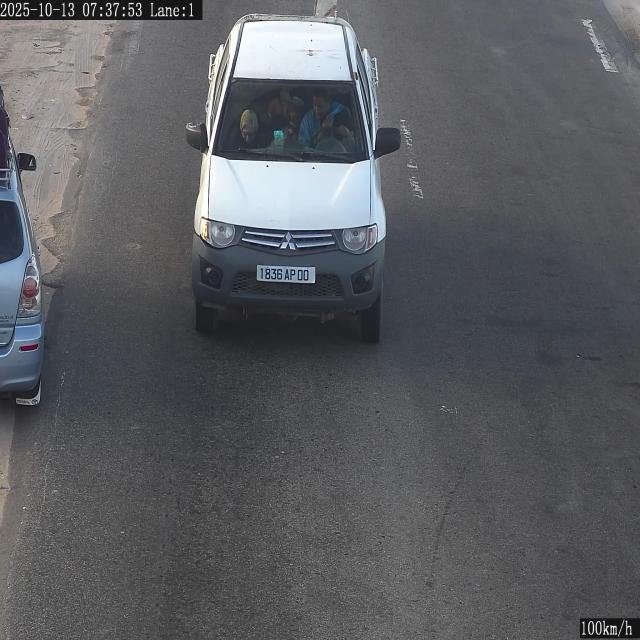BUS: (257, 264, 316, 284)
